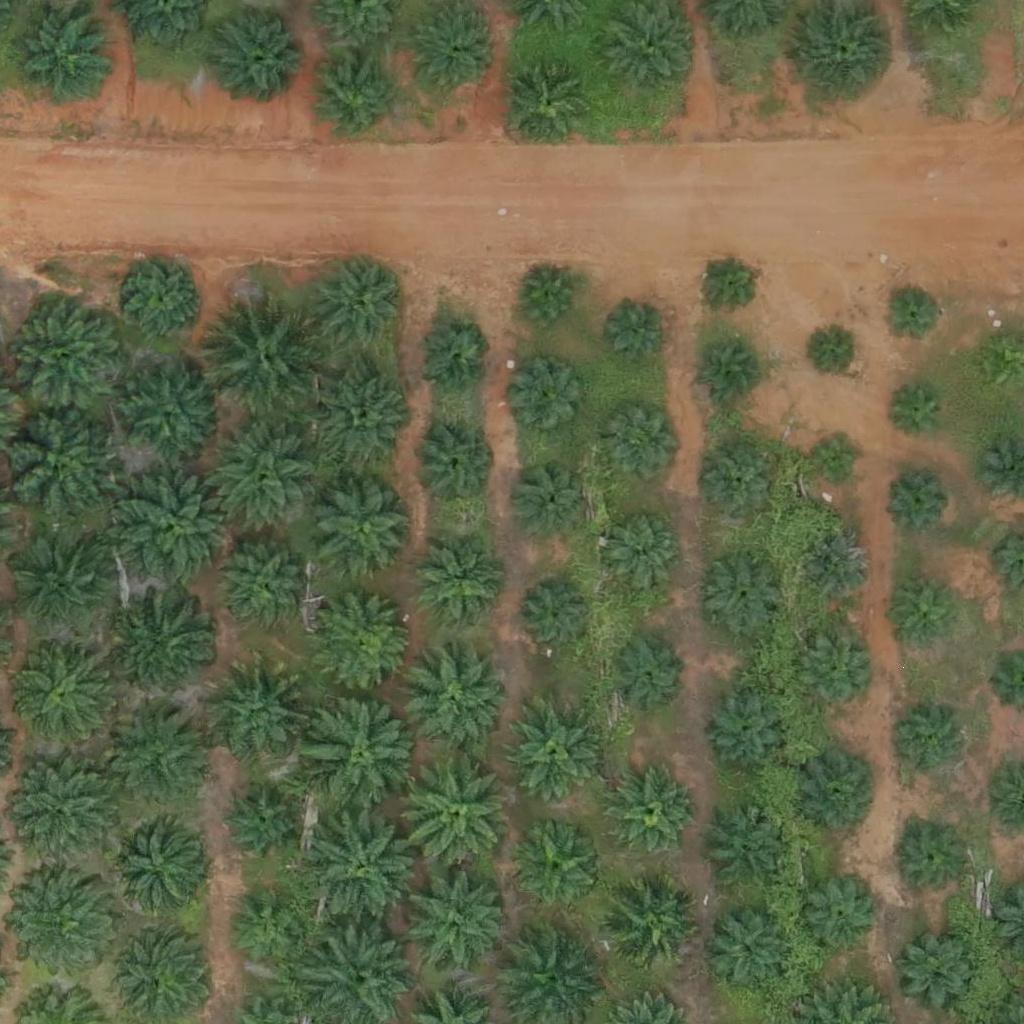Kelapa_Sawit: (5, 291, 130, 417), (113, 466, 238, 592), (204, 292, 329, 418), (200, 415, 325, 541), (302, 691, 427, 817), (302, 804, 427, 930), (394, 751, 519, 877), (1, 873, 114, 986), (14, 5, 114, 106), (13, 538, 113, 639), (14, 639, 114, 740), (121, 594, 221, 695), (109, 699, 209, 800), (212, 662, 312, 763), (105, 816, 205, 917), (212, 5, 312, 105), (119, 363, 219, 463), (309, 255, 409, 355), (313, 371, 413, 471), (313, 478, 413, 578), (315, 595, 415, 695), (406, 651, 506, 751), (500, 702, 600, 802), (603, 878, 703, 978), (408, 870, 508, 970), (700, 549, 788, 637), (795, 749, 883, 837), (413, 7, 501, 95), (506, 57, 594, 145), (415, 541, 503, 629), (704, 689, 792, 777), (892, 926, 980, 1014), (513, 826, 601, 914), (410, 420, 497, 508), (314, 54, 401, 142), (221, 545, 308, 633), (609, 770, 696, 858), (704, 808, 791, 896), (706, 906, 793, 994), (604, 511, 679, 587), (514, 459, 589, 535), (519, 578, 594, 654), (608, 634, 683, 710), (126, 260, 201, 336), (414, 320, 489, 396), (512, 362, 587, 437), (605, 404, 680, 479), (703, 448, 778, 523), (230, 891, 305, 966), (897, 824, 972, 899), (885, 708, 960, 783), (795, 634, 870, 709), (223, 788, 298, 863), (802, 533, 877, 608), (803, 882, 878, 957), (697, 252, 760, 315), (698, 341, 761, 404), (895, 581, 958, 644), (517, 268, 579, 331), (607, 301, 669, 364), (882, 283, 944, 346), (886, 383, 948, 446), (886, 470, 948, 533), (812, 327, 862, 378), (811, 433, 861, 484)
